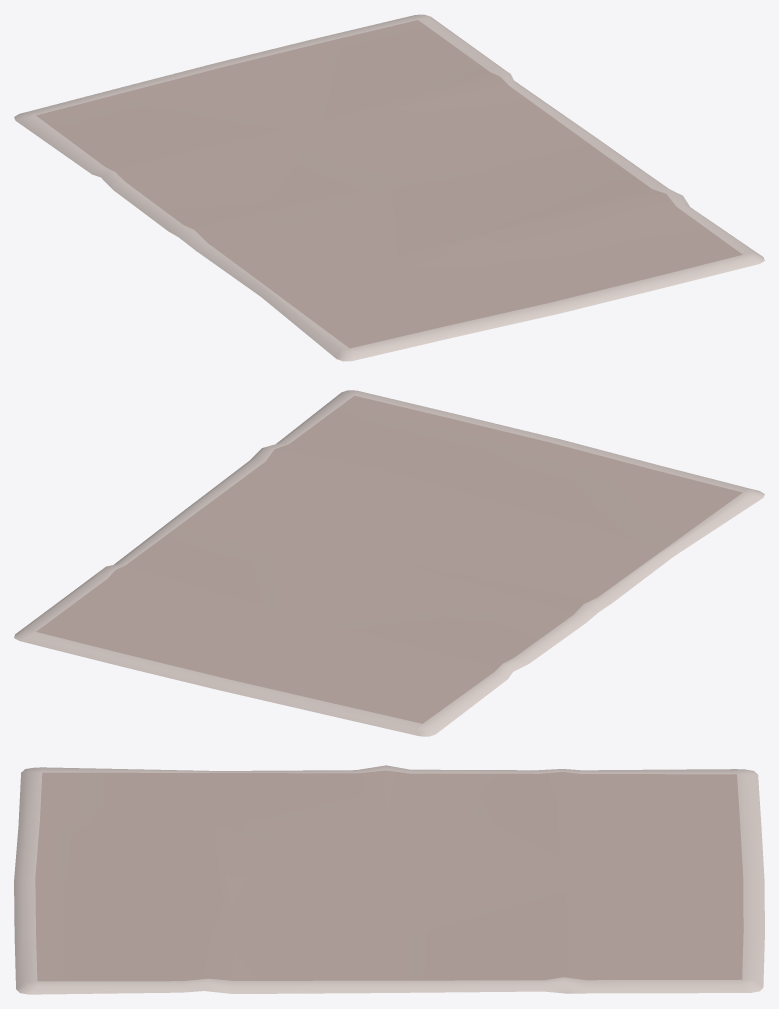
Rendered from carpet_010.fbx.
3 renders of one model, top to bottom at view 1: azimuth 30°, elevation 25°; view 2: azimuth 150°, elevation 25°; view 3: azimuth 270°, elevation 25°, orthographic. The views are drawn at different scales.
Parts seen in each view (by area): view 1: carpet_010; view 2: carpet_010; view 3: carpet_010.
Boxes of the visible parts, x1,y1,x2,y2 form: carpet_010: (14, 14, 764, 361); carpet_010: (14, 390, 764, 736); carpet_010: (14, 765, 764, 994).
Size of the model in its own units: 475 by 665 by 9.16.
